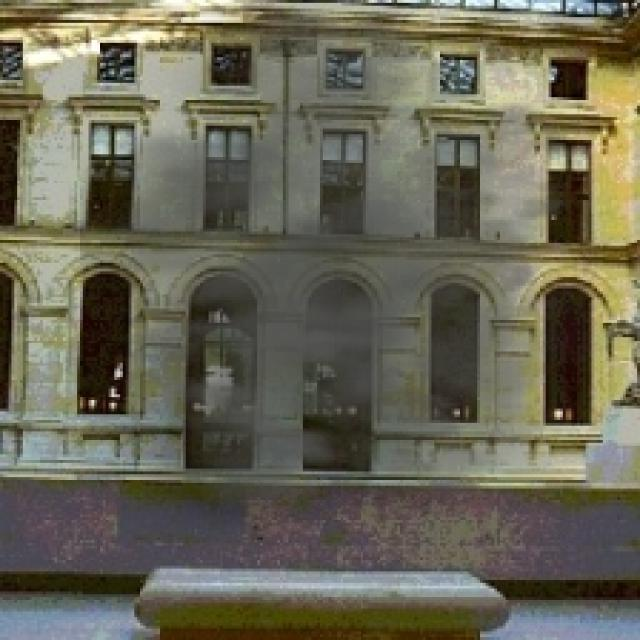smoke: (80, 14, 634, 552)
